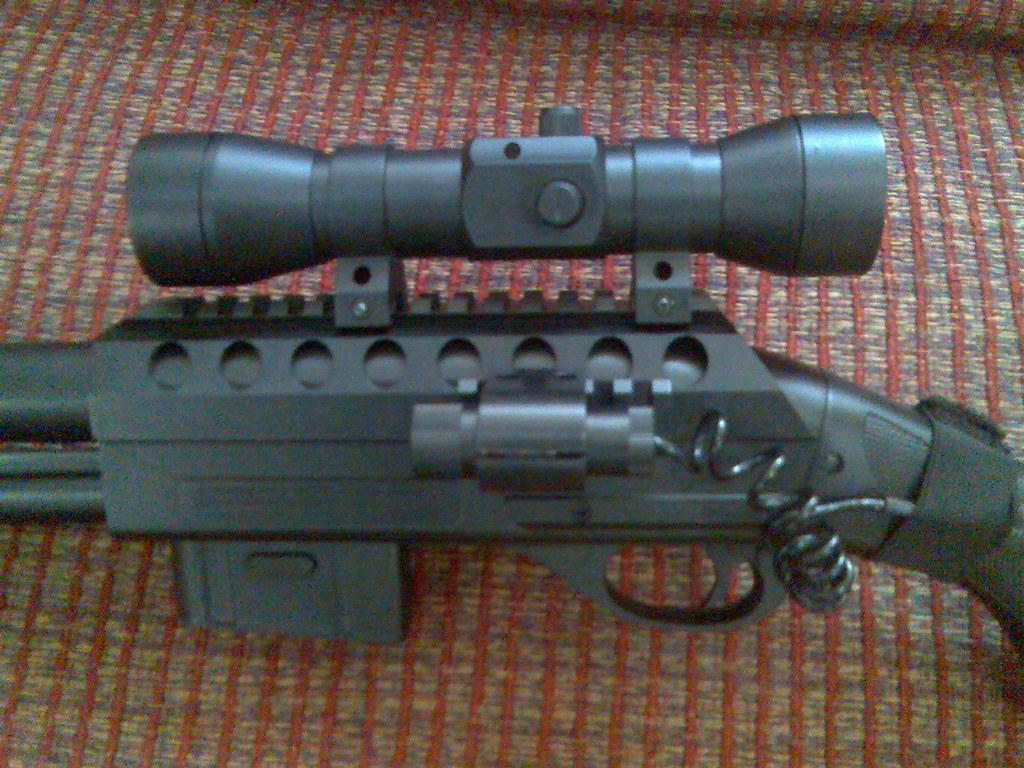Shotgun: (0, 104, 1023, 637)
